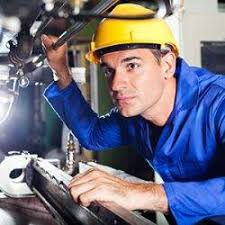Person_wearing_helmet: (88, 0, 178, 75)
